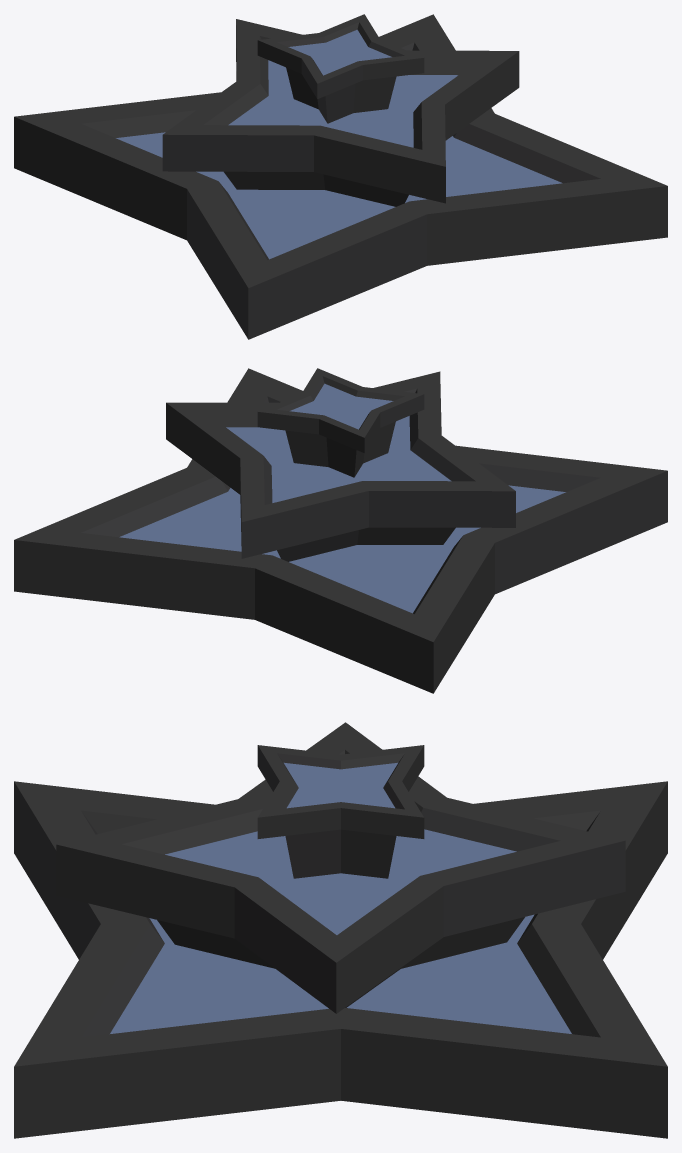
File: fountain6.fbx
The picture shows the model from 3 angles, top to bottom: view 1: azimuth 30°, elevation 25°; view 2: azimuth 150°, elevation 25°; view 3: azimuth 270°, elevation 25°; orthographic projection. The views are drawn at different scales.
Visible parts, largest first — view 1: Fountain1.007; view 2: Fountain1.007; view 3: Fountain1.007.
Part boxes in pixels (x1,y1,x2,y2): Fountain1.007: (14,14,667,339); Fountain1.007: (14,368,667,693); Fountain1.007: (14,722,667,1138).
Bounding box in the file's own units: 230 × 80.72 × 223.
